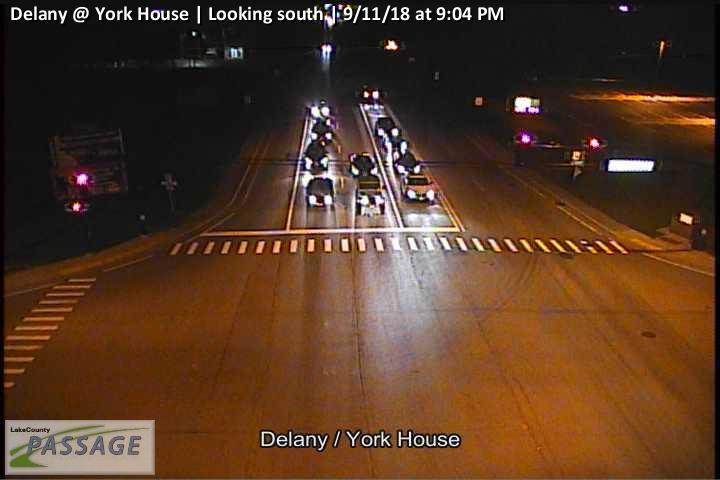SUV: (356, 175, 385, 216)
Sedan: (400, 174, 434, 202), (307, 177, 334, 207), (304, 143, 329, 169), (350, 152, 377, 175), (394, 153, 422, 174), (375, 117, 399, 136), (312, 122, 334, 142), (382, 137, 409, 153)
